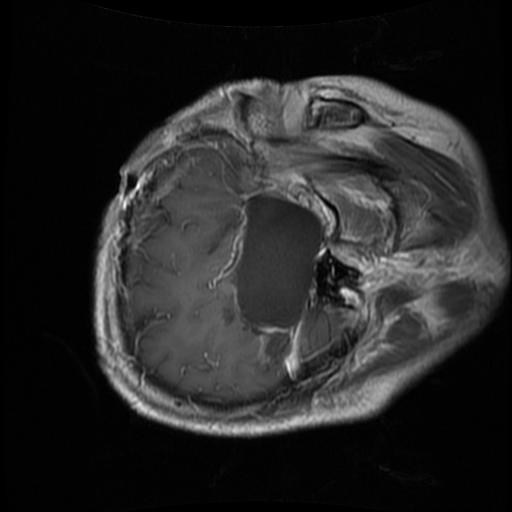glioma: (234, 194, 323, 333)
